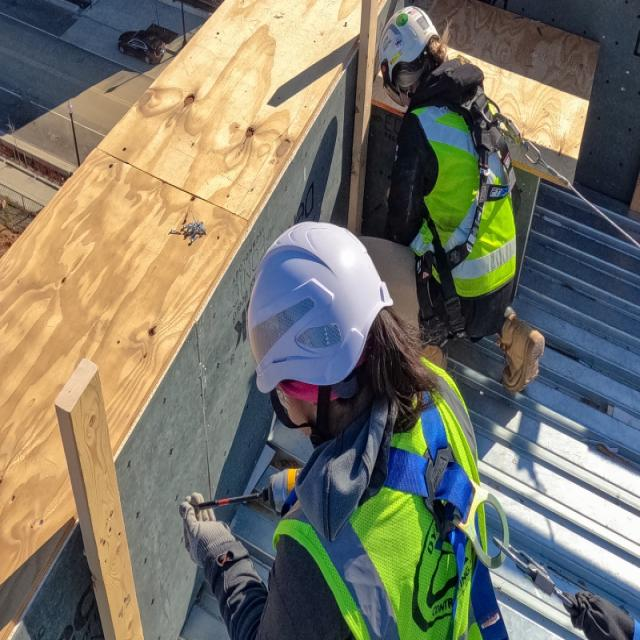Boots: (475, 290, 551, 422)
Gloves: (169, 484, 242, 570)
Hard Hat: (237, 216, 399, 398), (376, 7, 448, 87)
Reflective Vest: (203, 354, 484, 640), (383, 98, 538, 310)
